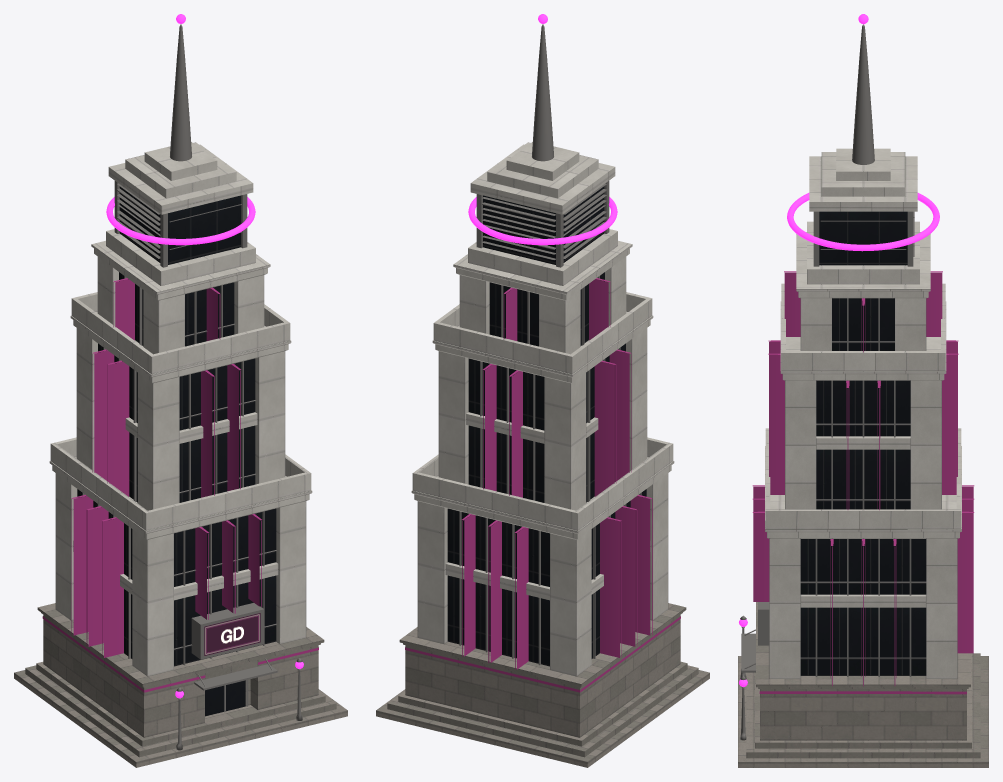
The model's file is s27-genomic-dao.glb.
3 renders of one model, left to right at view 1: azimuth 30°, elevation 25°; view 2: azimuth 150°, elevation 25°; view 3: azimuth 270°, elevation 25°, orthographic. The views are drawn at different scales.
Visible parts, largest first — view 1: Landmark · Genomic.DAO (Series 27); view 2: Landmark · Genomic.DAO (Series 27); view 3: Landmark · Genomic.DAO (Series 27).
Part boxes in pixels (box(x1,y1,x2,y2)): Landmark · Genomic.DAO (Series 27): box(14, 14, 347, 767); Landmark · Genomic.DAO (Series 27): box(376, 14, 709, 767); Landmark · Genomic.DAO (Series 27): box(738, 14, 988, 767).
Bounding box in the file's own units: 12 × 37 × 12.
7 materials, 4 textured.
